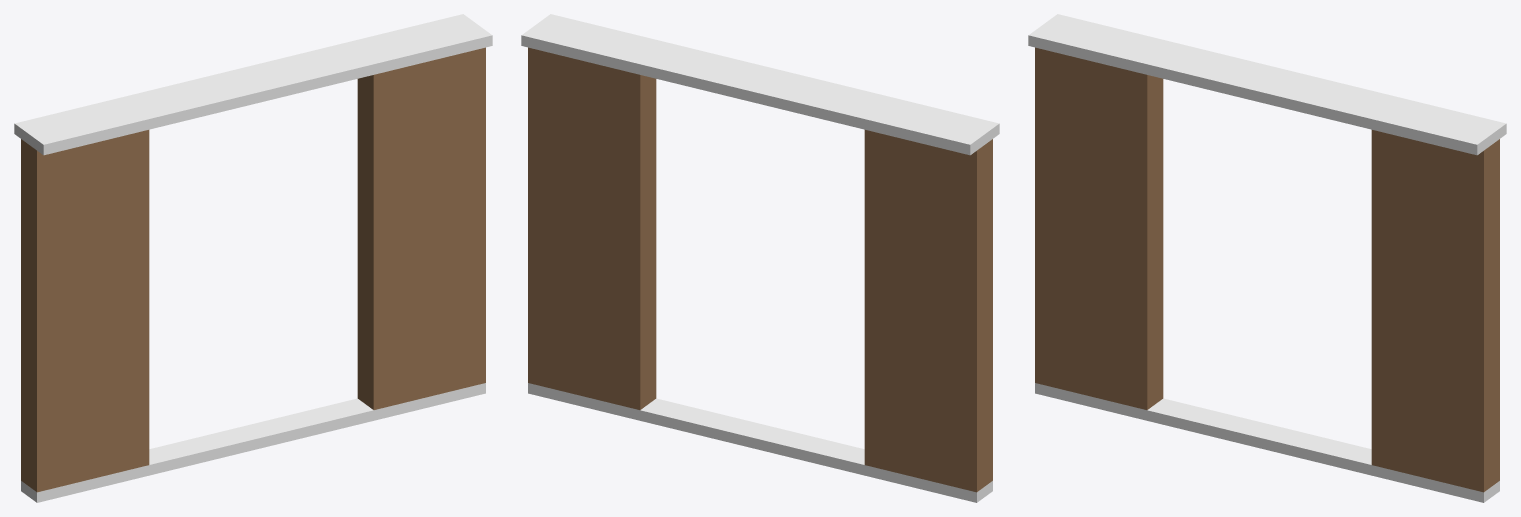
The model's file is SM_200x300_HighWindow.fbx.
3 renders of one model, left to right at view 1: azimuth 30°, elevation 25°; view 2: azimuth 150°, elevation 25°; view 3: azimuth 330°, elevation 25°, orthographic.
Visible parts, largest first — view 1: SM_400x300_HighWindow; view 2: SM_400x300_HighWindow; view 3: SM_400x300_HighWindow.
Part boxes in pixels (left/top/right/bottom): SM_400x300_HighWindow: left=14, top=14, right=492, bottom=502; SM_400x300_HighWindow: left=521, top=14, right=999, bottom=502; SM_400x300_HighWindow: left=1028, top=14, right=1506, bottom=502.
Size of what is drawn, in the model's own units: 400 by 45 by 309.
